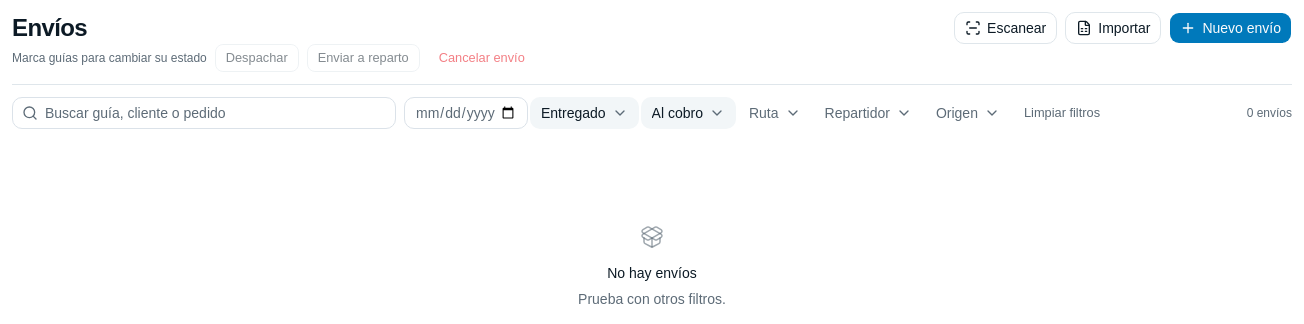
Scenario: EnviosPage › toma los filtros de la URL, los envía a la API y permite limpiarlos
Expected: the text "No hay envíos" is shown, top-left (607, 263), bottom-right (697, 283)
Click the button "Limpiar filtros": [1062, 113] box top-left (1019, 99), bottom-right (1105, 127)
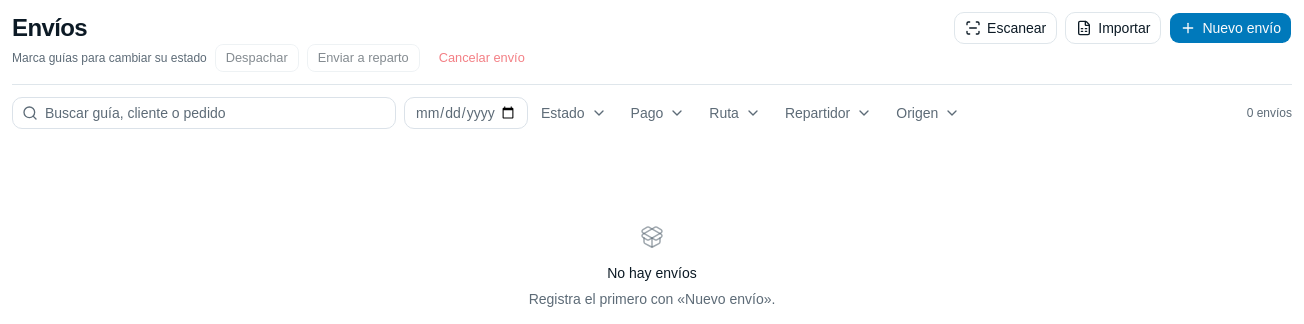
Expected: the button "Limpiar filtros" is gone
